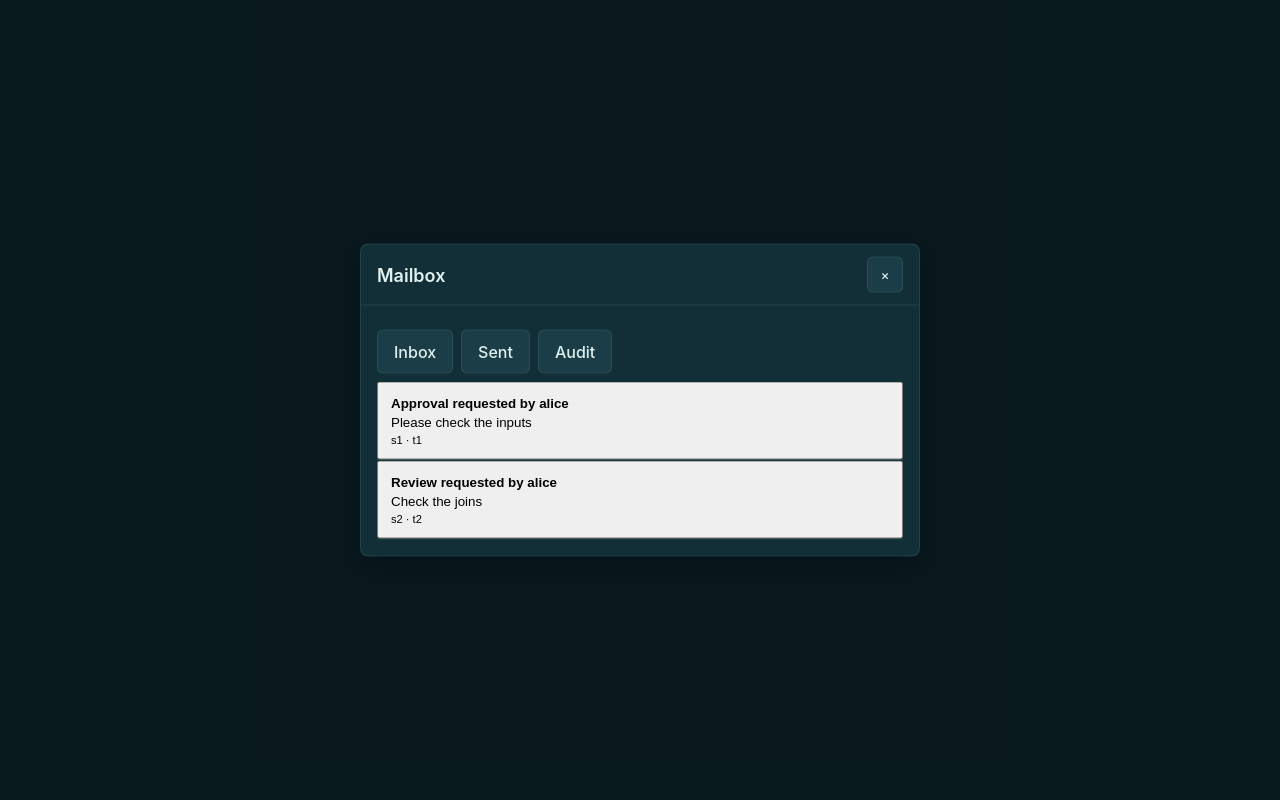
MailboxDialog › does not fetch the audit view until the Audit folder is opened
The width and height of the screenshot is (1280, 800).
Expected: the button "Approval requested by alice Please check the inputs s1 · t1" is shown, left=377, top=382, right=903, bottom=460
Click the tab "Audit". click: point(575, 352)
box: left=538, top=330, right=612, bottom=374
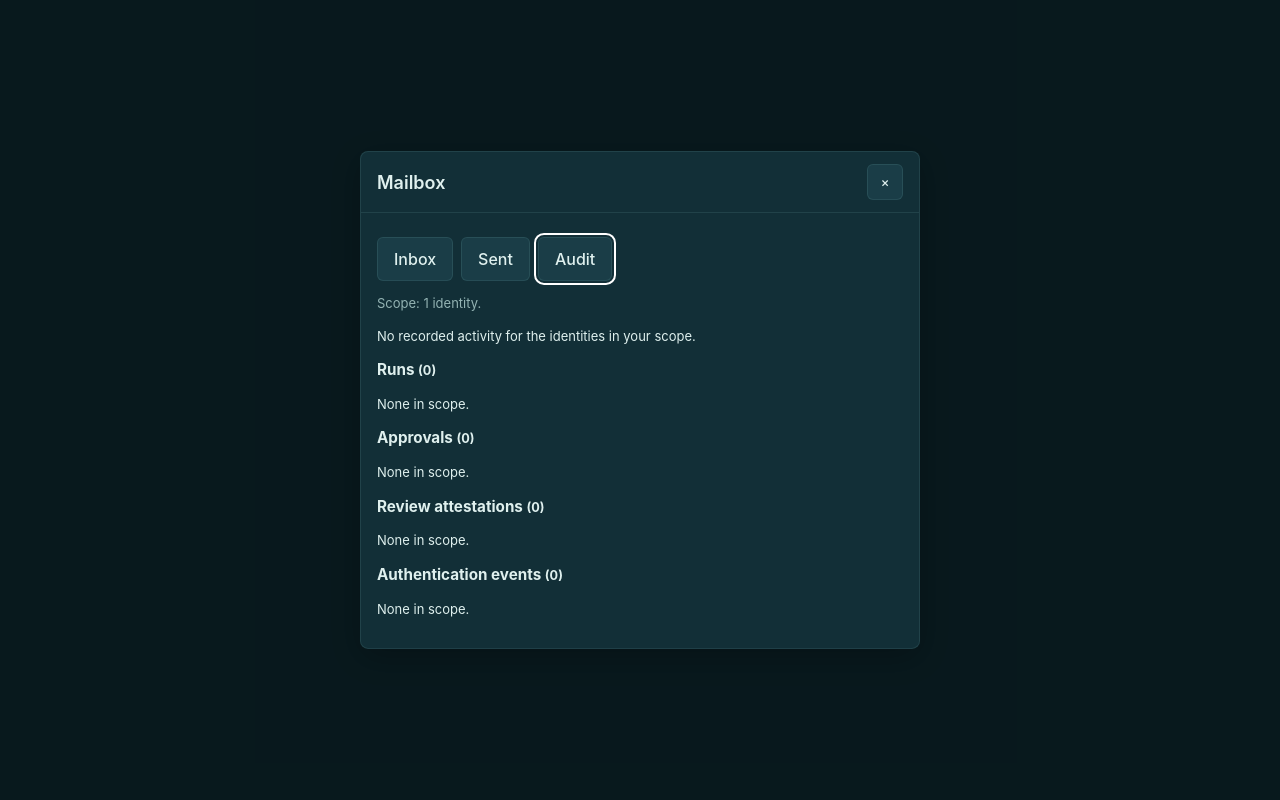
Expected: the panel named "Audit" is shown, left=377, top=295, right=696, bottom=617
